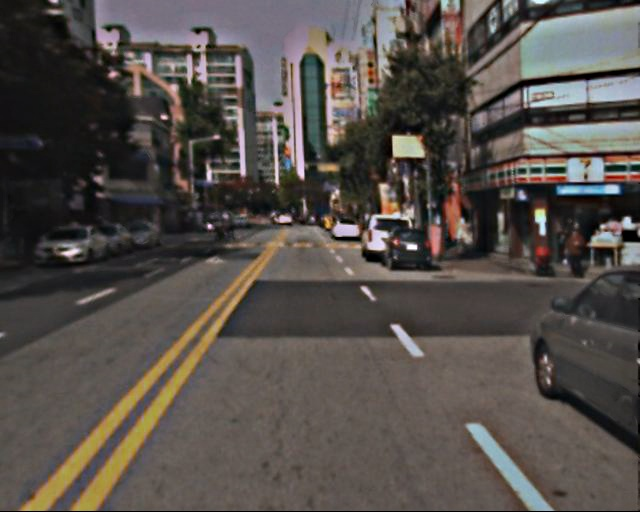person: (564, 218, 591, 283), (227, 213, 239, 242)
